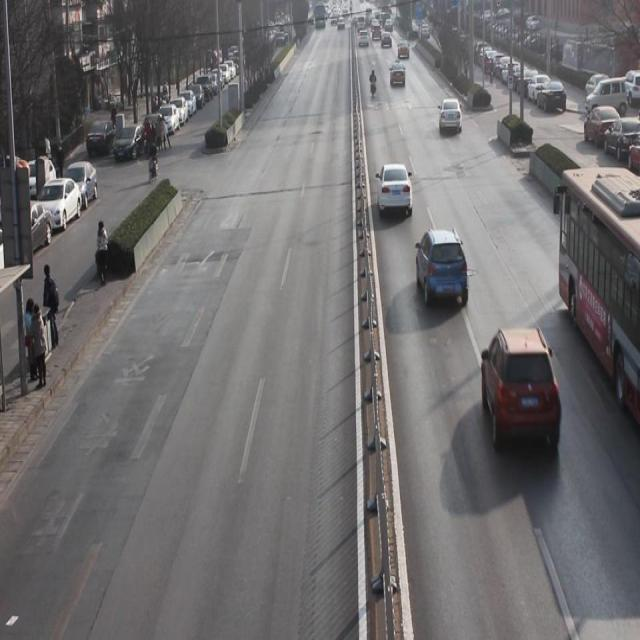car: (479, 324, 562, 468), (415, 230, 470, 316), (376, 165, 415, 220), (439, 100, 464, 139), (390, 64, 408, 90)
van: (556, 168, 640, 418)
